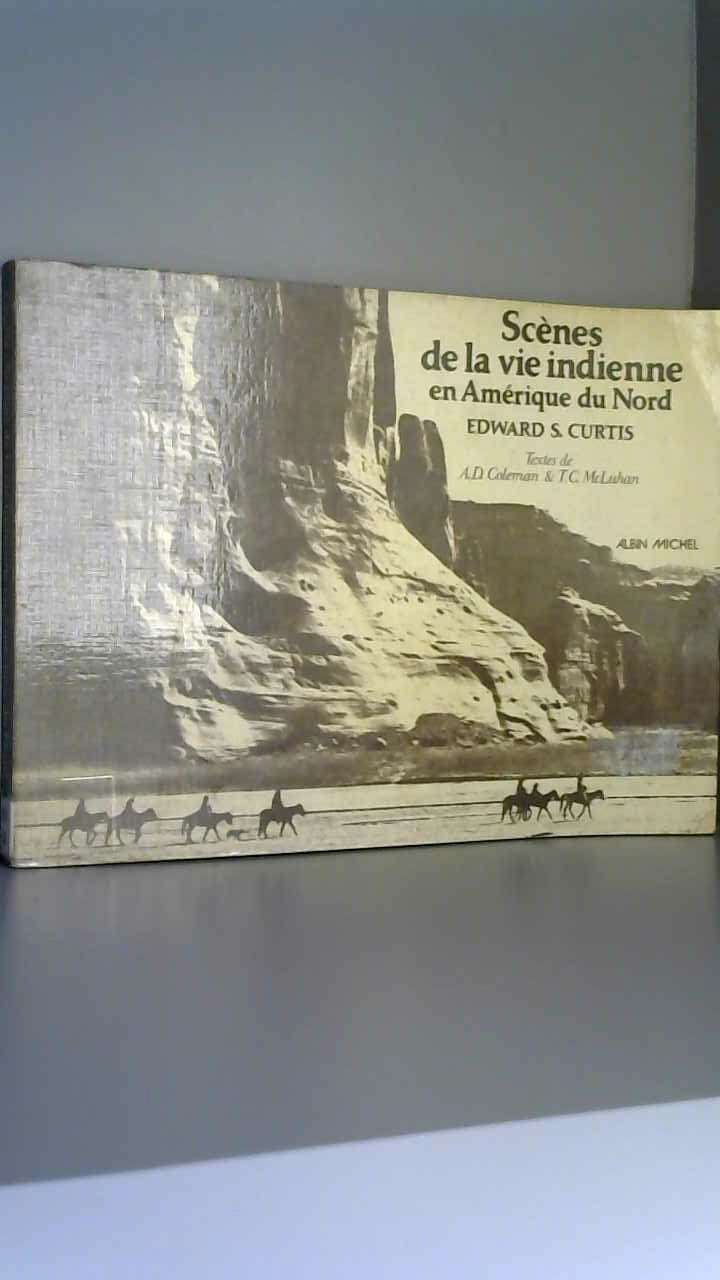book: (0, 228, 709, 891)
